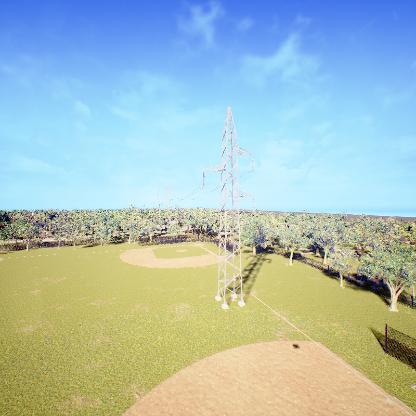tower: (199, 106, 256, 311)
